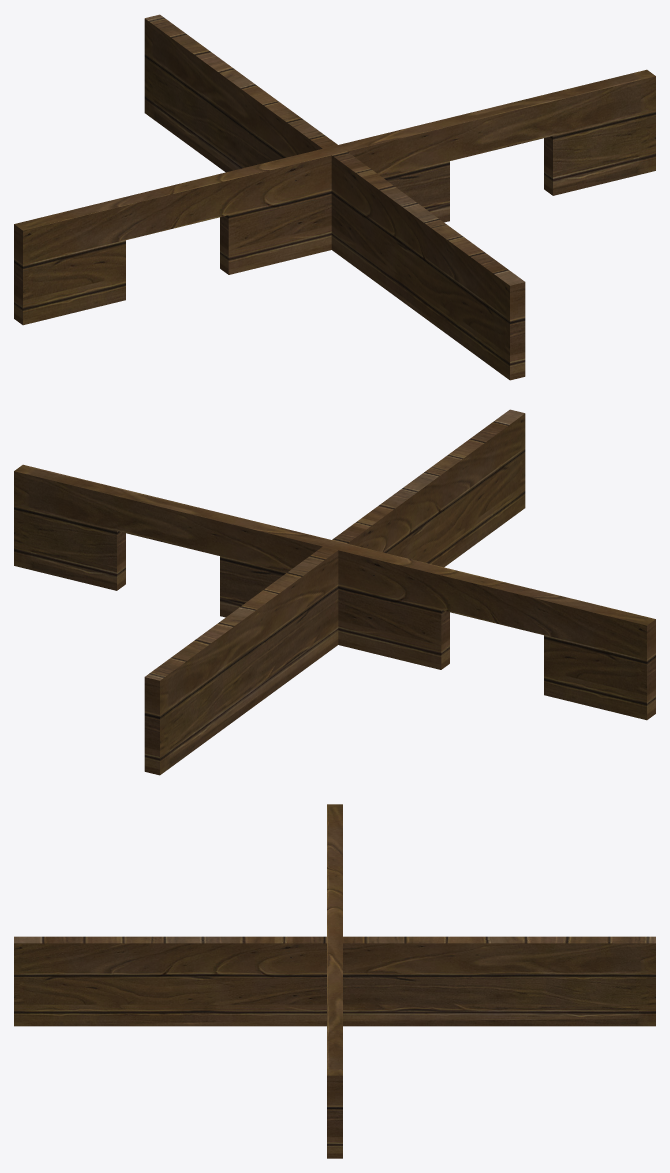
File: part_rot1.gltf
The picture shows the model from 3 angles, top to bottom: view 1: azimuth 30°, elevation 25°; view 2: azimuth 150°, elevation 25°; view 3: azimuth 270°, elevation 25°; orthographic projection. The views are drawn at different scales.
Parts seen in each view (by area): view 1: part_rot1_glb; view 2: part_rot1_glb; view 3: part_rot1_glb.
Boxes of the visible parts, x1,y1,x2,y2 form: part_rot1_glb: (14, 14, 655, 380); part_rot1_glb: (14, 409, 655, 775); part_rot1_glb: (14, 804, 655, 1158).
Size of the model in its own units: 3.5 by 0.5 by 3.5.
1 material, 1 textured.
